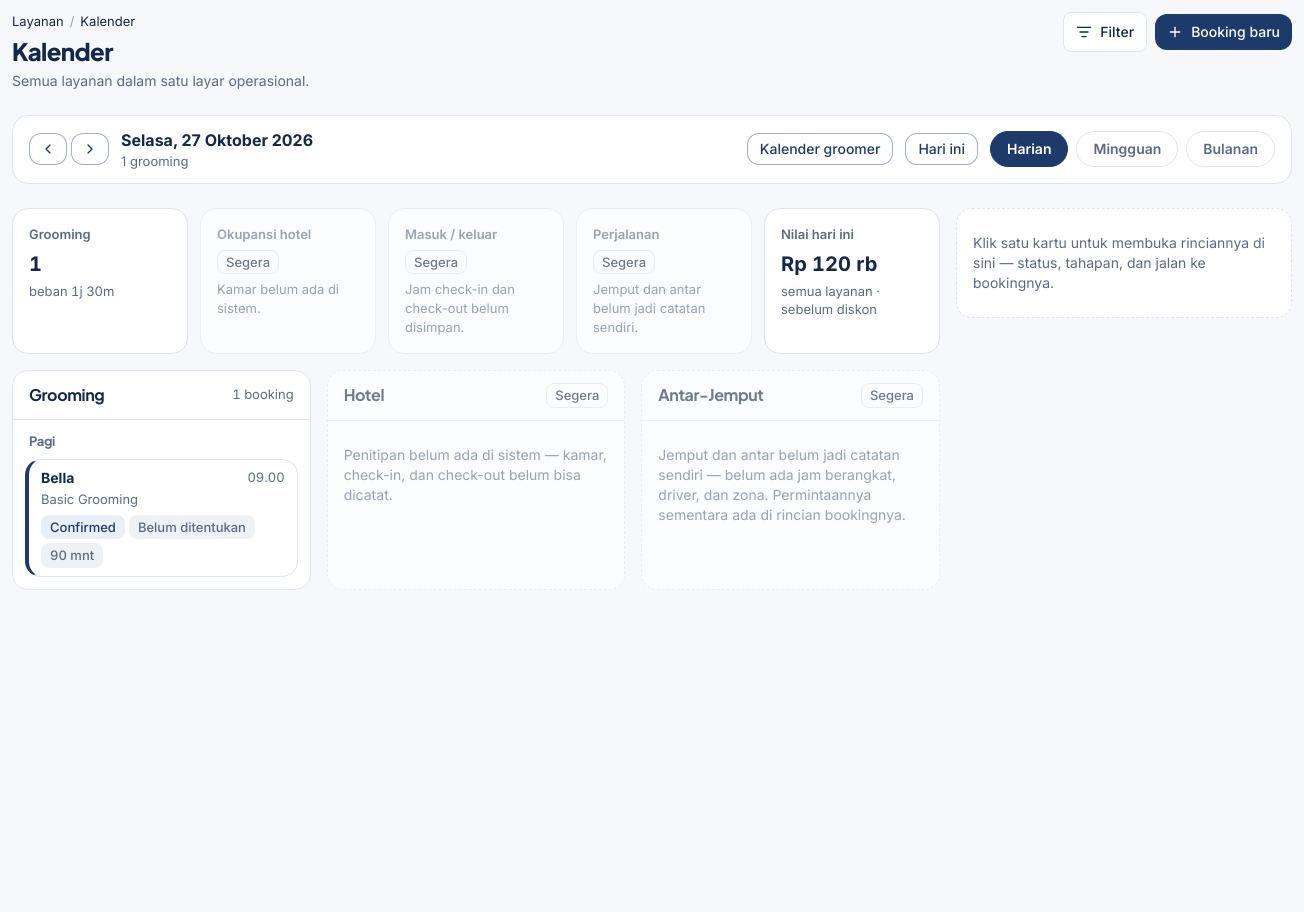
Test: Hari Ini › opens one booking in the side panel, with the way into it
The image size is (1304, 912).
Click the button with aria-label "bella · basic grooming" at [161, 518], box [25,459,298,577]
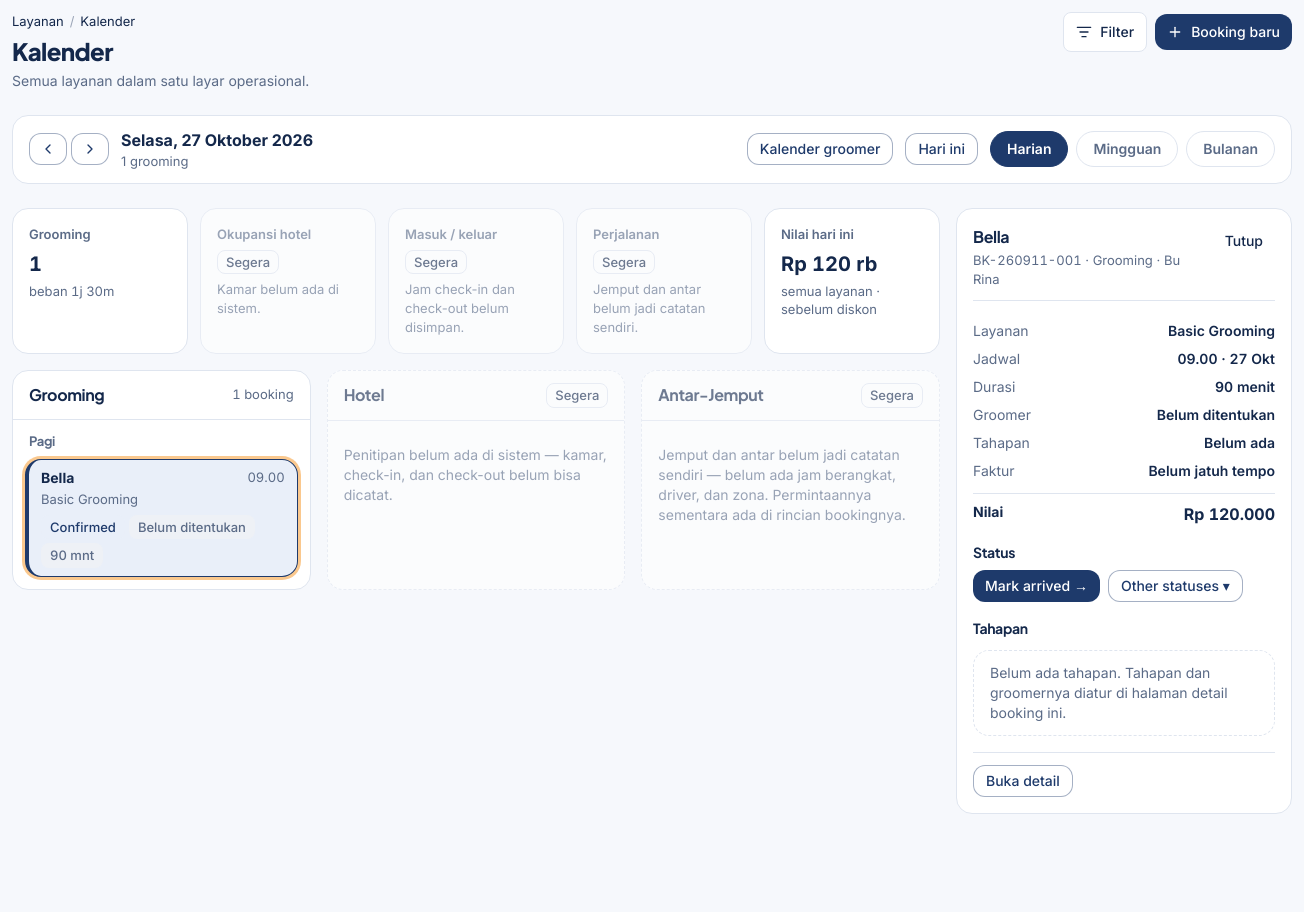
Result: the text "BK-260911-001" is shown at [973,252,1082,268]
Result: the text "Belum ditentukan" below "Durasi" is shown at [1157,406,1275,423]
